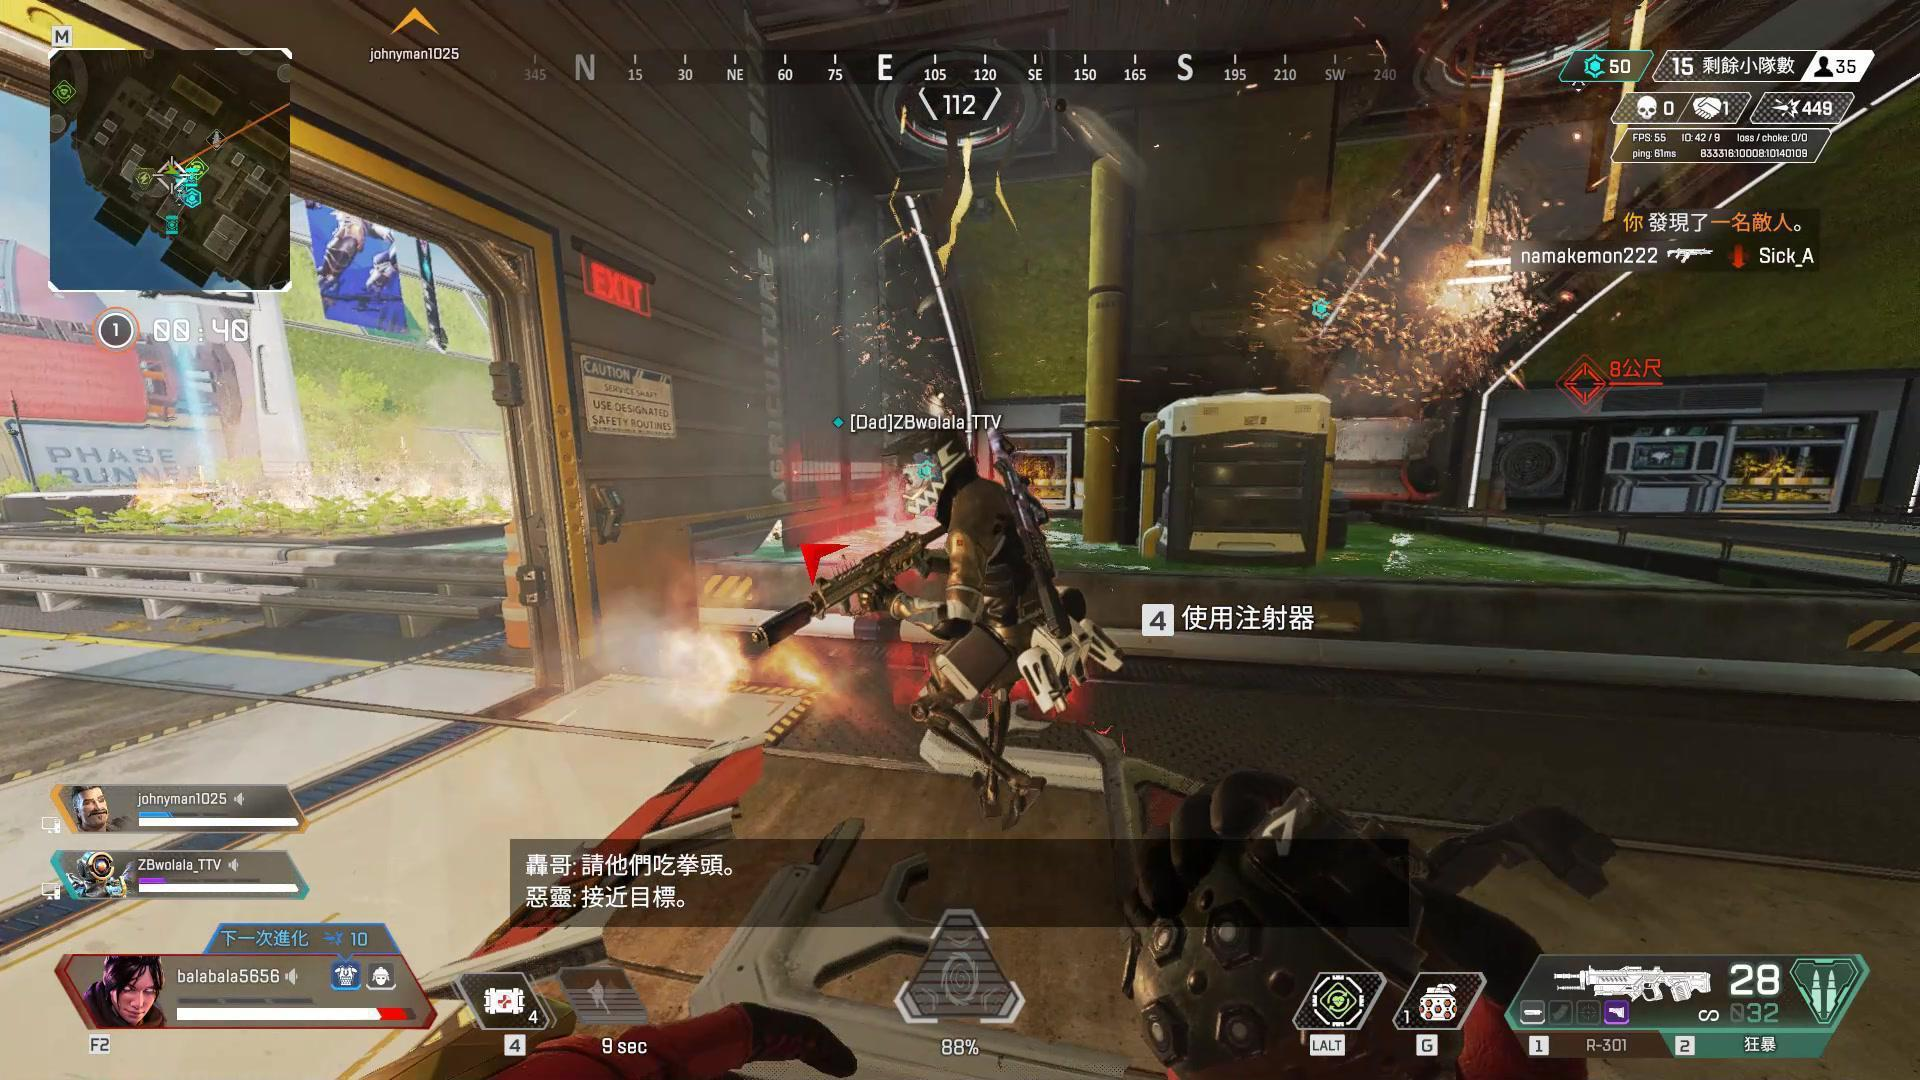avatar: (888, 427, 1093, 835)
